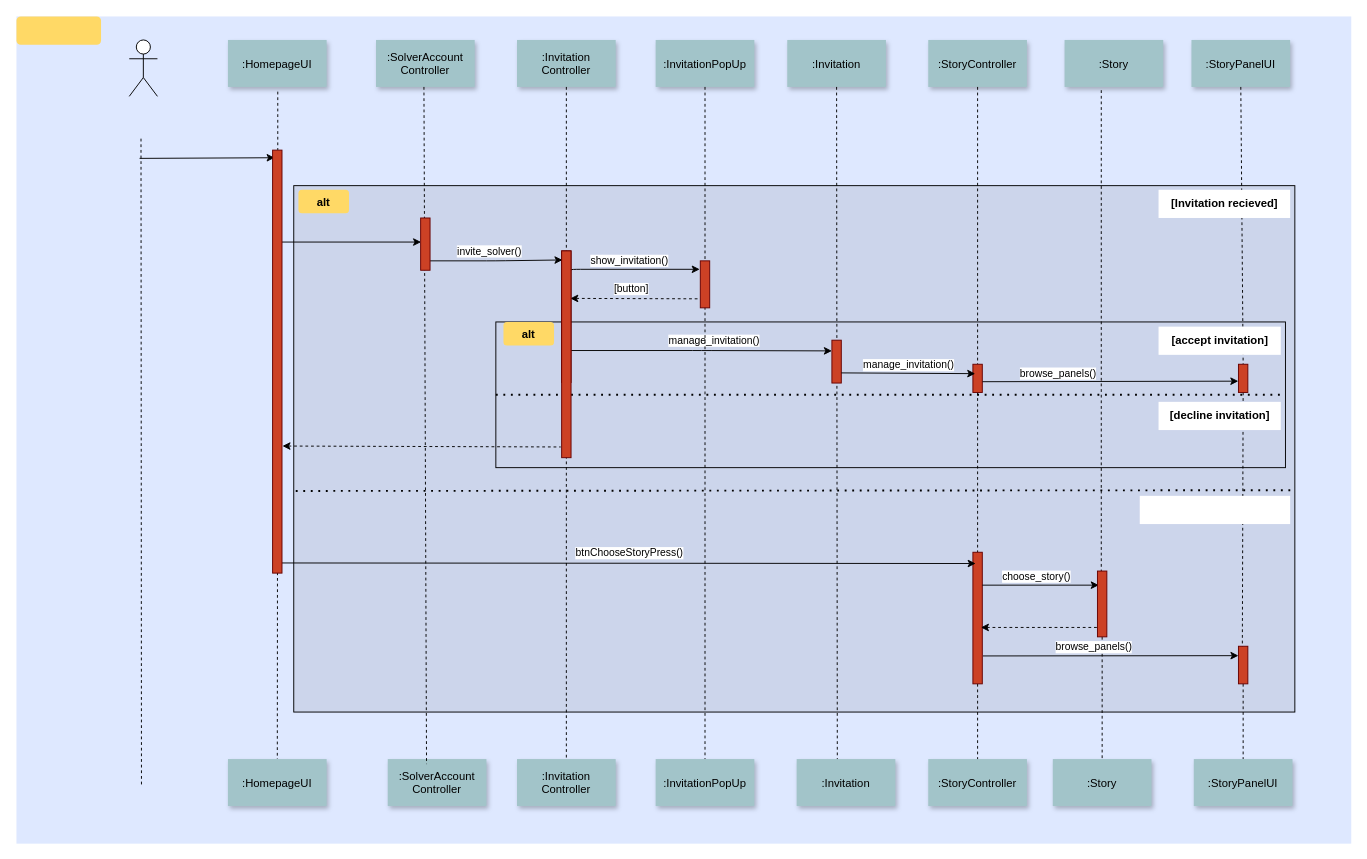
Some shapes in this 1367 by 859 pixel diagram are drawn without their labels. Here are the shapes that lost their labels. From the top down, the centre of each, then its label:
At (x=58, y=30): "Enter Story".
At (x=142, y=67): "Solver".
At (x=1214, y=509): "[Invitation not recieved]".
